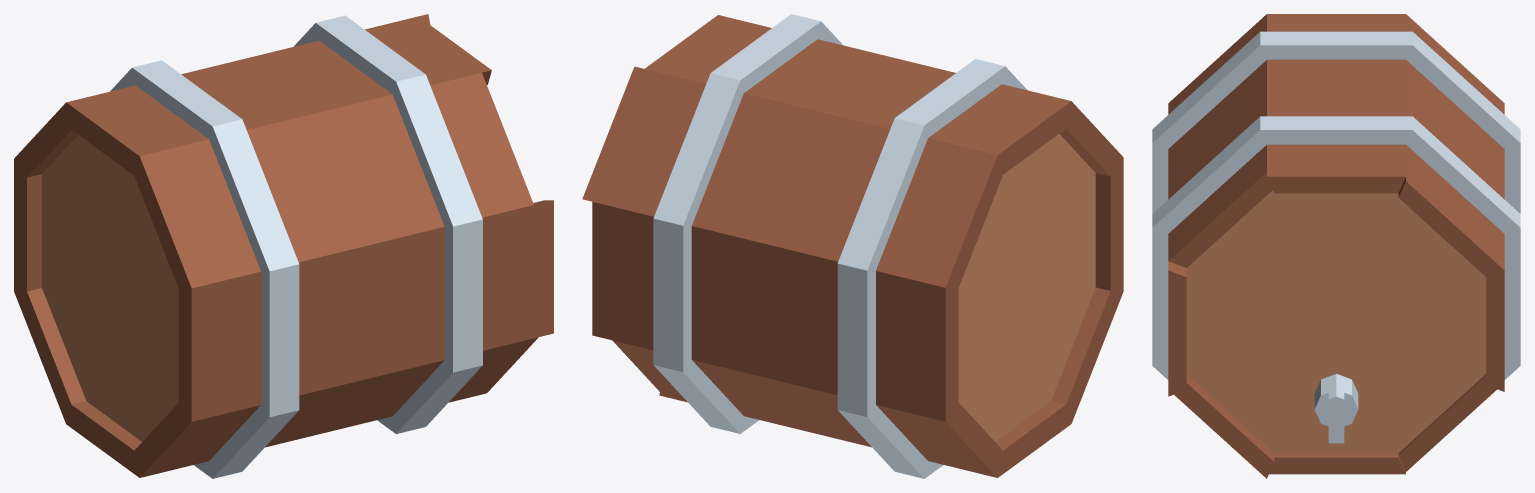
Rendered from barrel.dae.
The picture shows the model from 3 angles, left to right: view 1: azimuth 30°, elevation 25°; view 2: azimuth 150°, elevation 25°; view 3: azimuth 270°, elevation 25°; orthographic projection. The views are drawn at different scales.
Parts seen in each view (by area): view 1: barrel; view 2: barrel; view 3: barrel.
Part boxes in pixels (left/top/right/bottom): barrel: left=14, top=14, right=553, bottom=478; barrel: left=582, top=14, right=1123, bottom=478; barrel: left=1152, top=14, right=1520, bottom=478.
Size of the model in its own units: 0.76 by 0.6789 by 0.6789.
